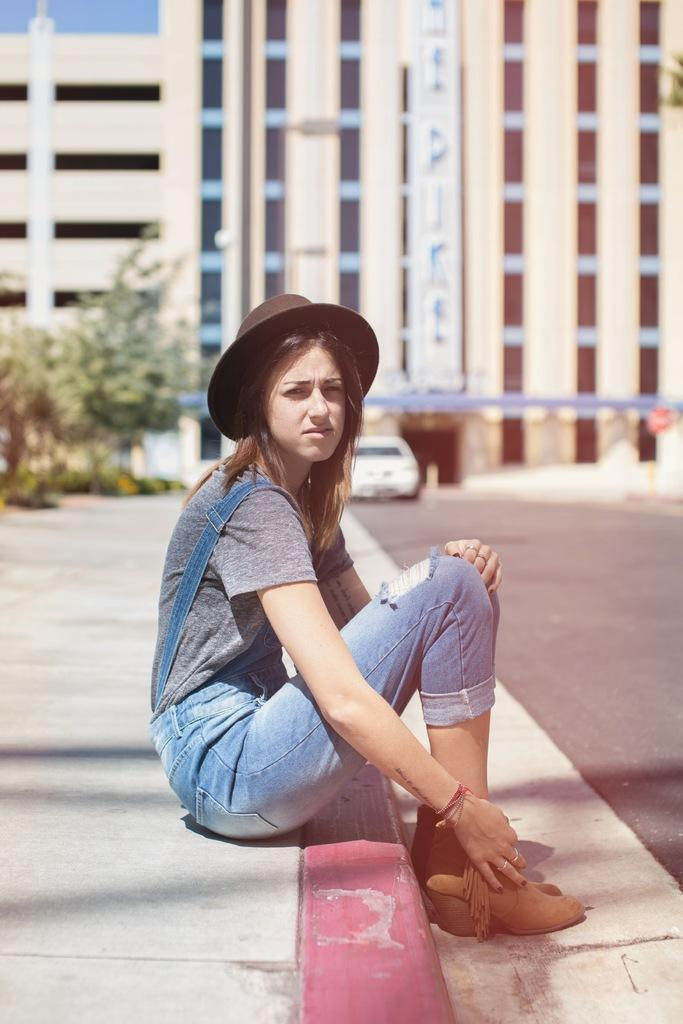Sem Máscara: (253, 342, 350, 461)
